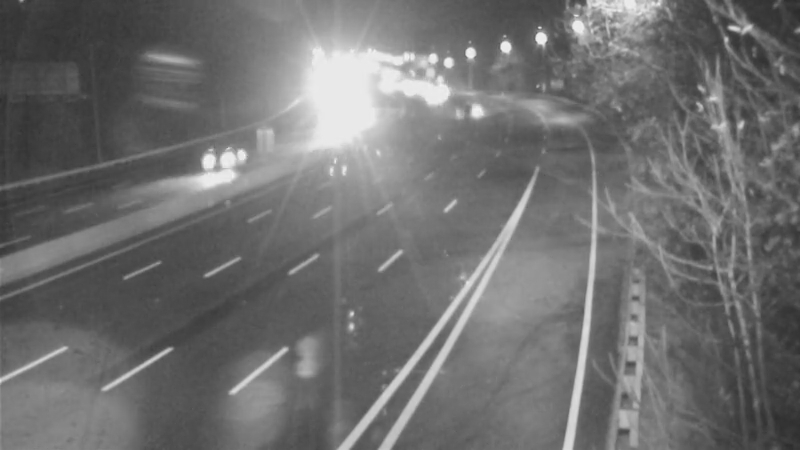vehicle: (180, 121, 260, 201), (409, 71, 459, 121), (444, 90, 494, 140)
